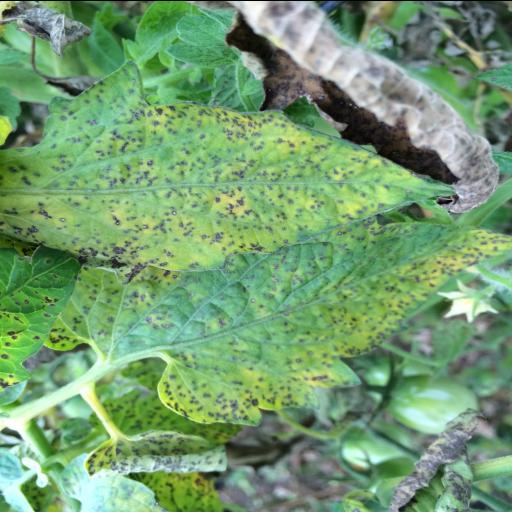Septoria: (0, 60, 468, 283), (44, 213, 512, 426), (0, 244, 81, 392), (84, 428, 230, 478)
